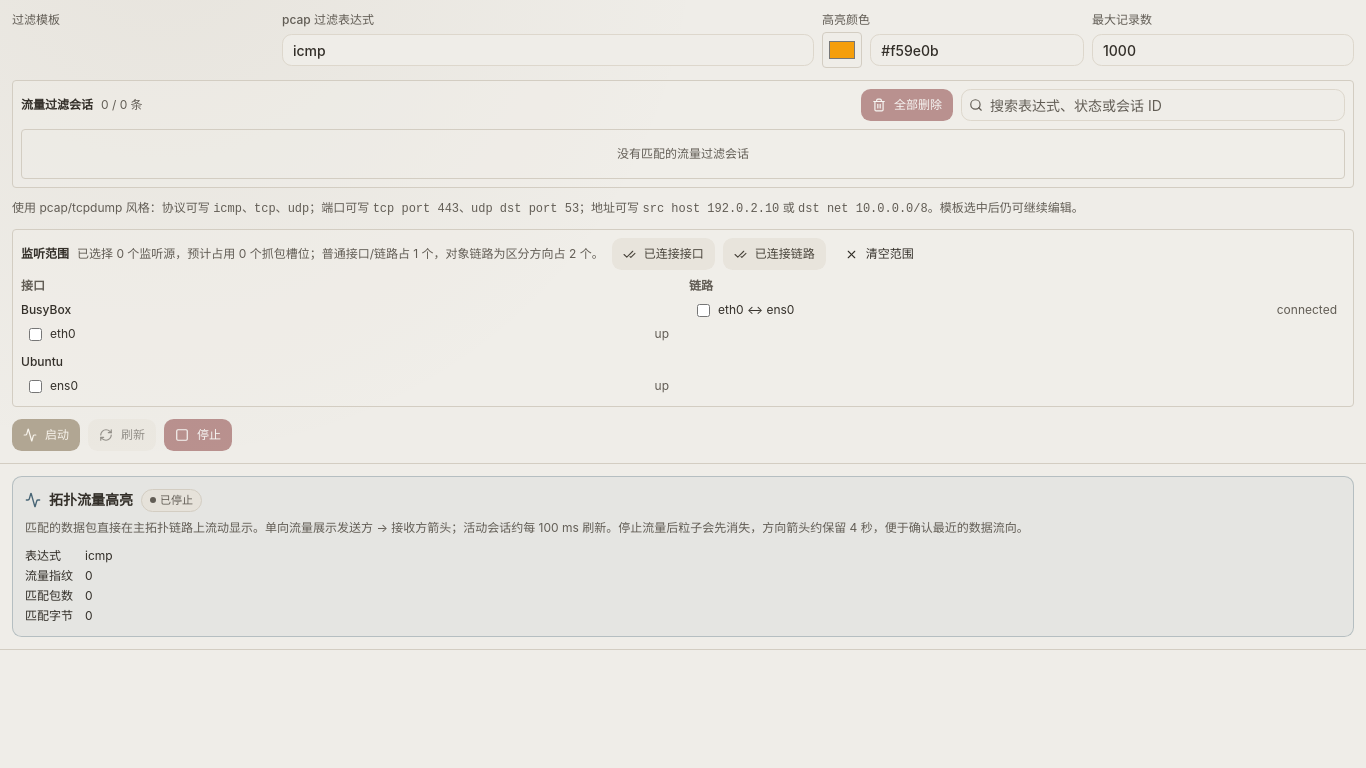
Test: TrafficFilterPanel interactions › starts multiple connected interfaces and follows the durable task
The width and height of the screenshot is (1366, 768).
Click the button "已连接接口" at x=663, y=254, box [612,238,715,270]
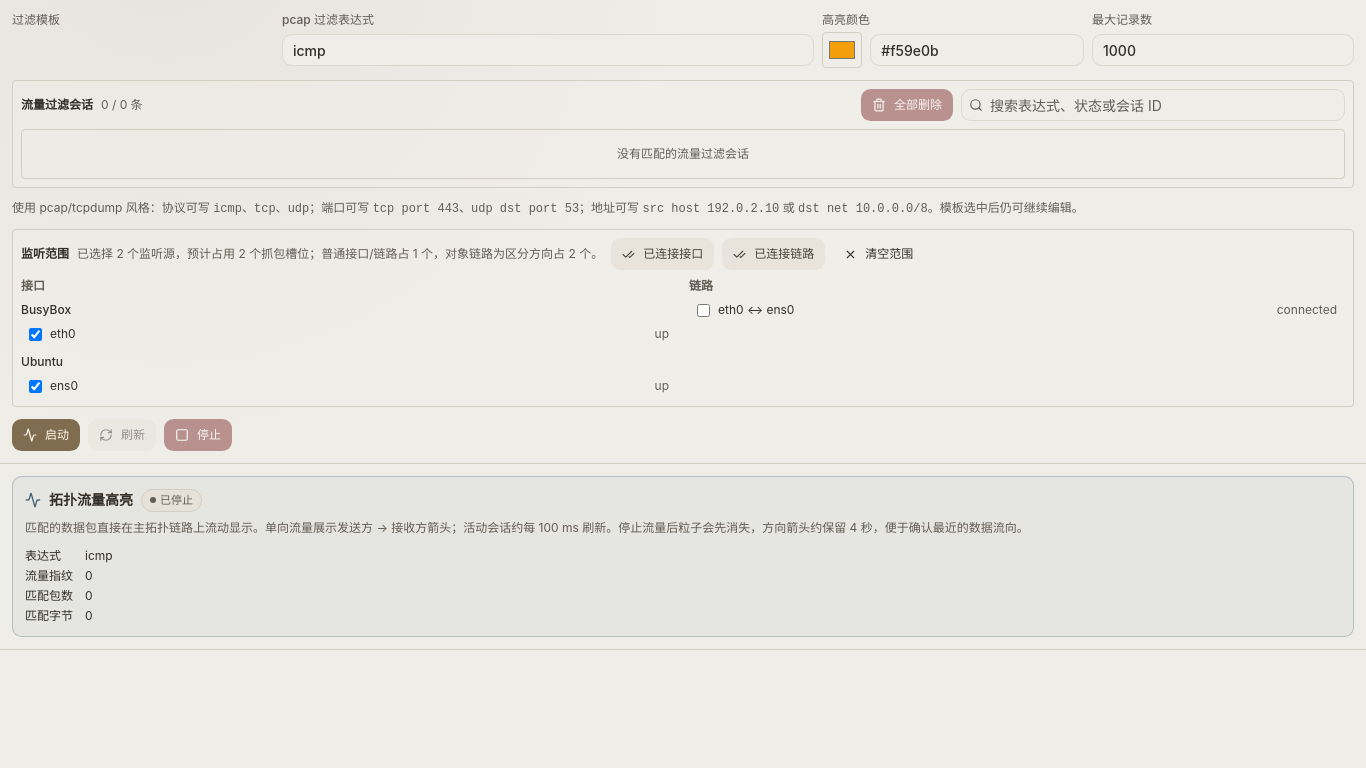
Click the button "启动" at x=46, y=435, box [12,419,80,451]
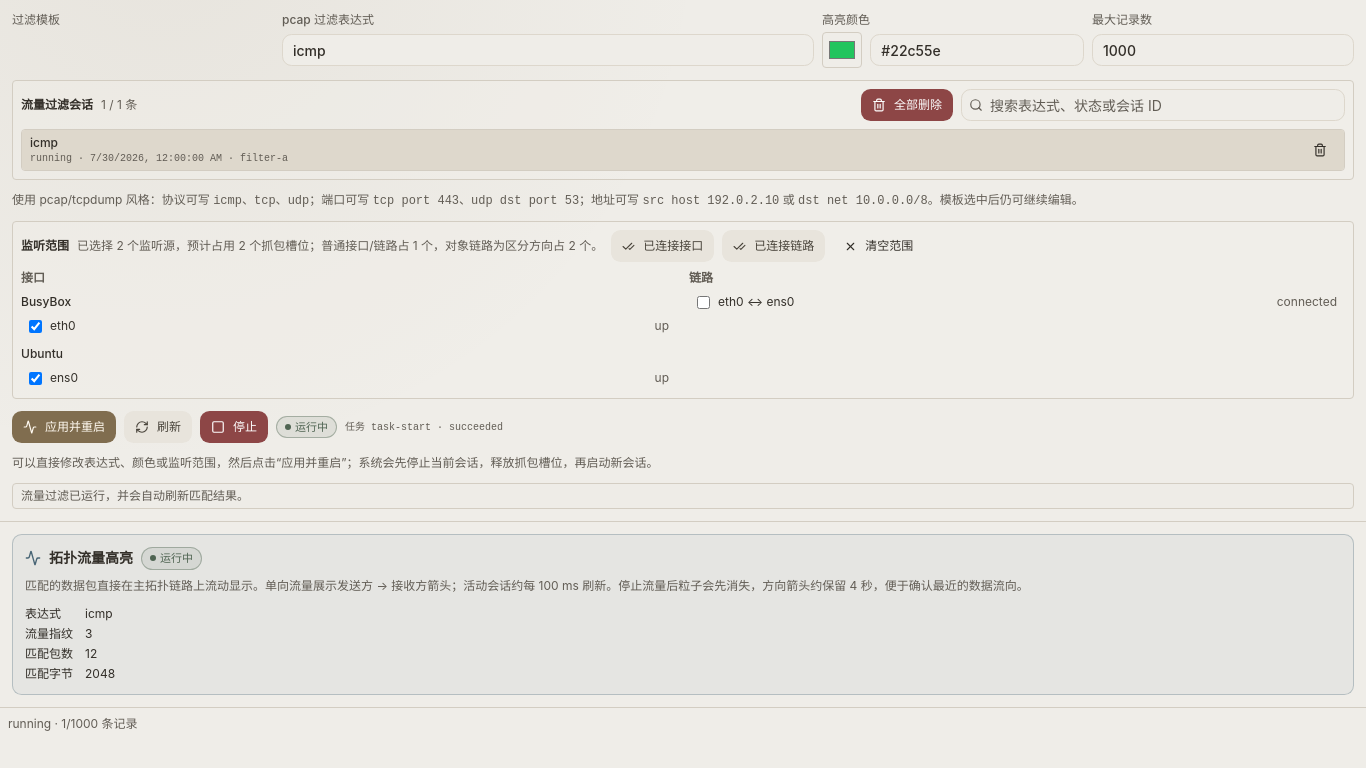
Expected: the text "拓扑流量高亮" is shown, [49,548,133,568]
Now the text "running" is shown, box [30,152,288,164]
Now the text "自动刷新匹配结果" is shown, box [21,488,249,503]
